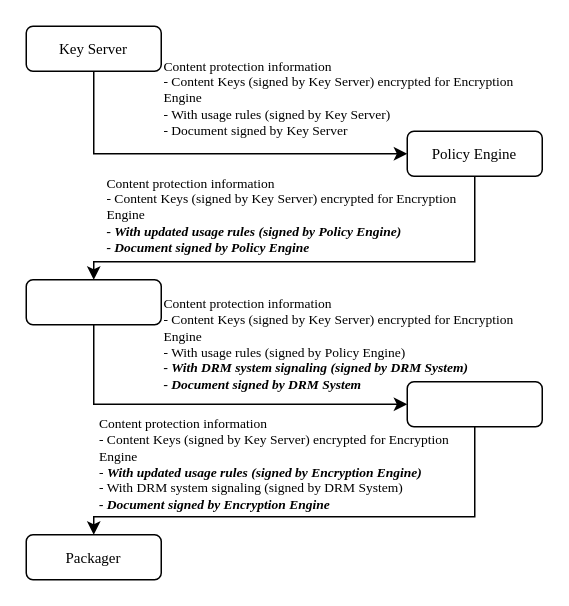
Some shapes in this 569 by 606 pixel diagram are drawn without their labels. The shapes that lost their labels are listed below. From the top down, each one's box as (x1, y1, x2, y2) in pixels, then its label:
(25, 278, 161, 325): DRM System
(406, 380, 542, 427): Encryption Engine
